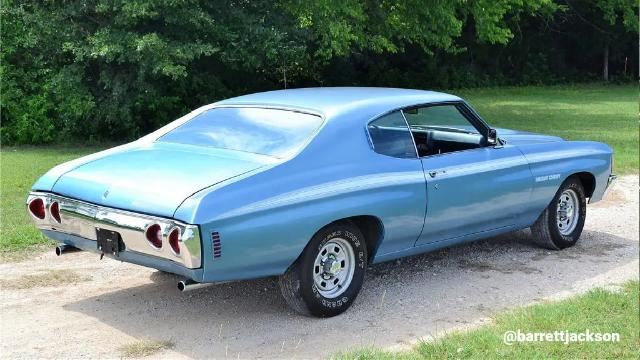chevelle-1972: (25, 87, 616, 317)
